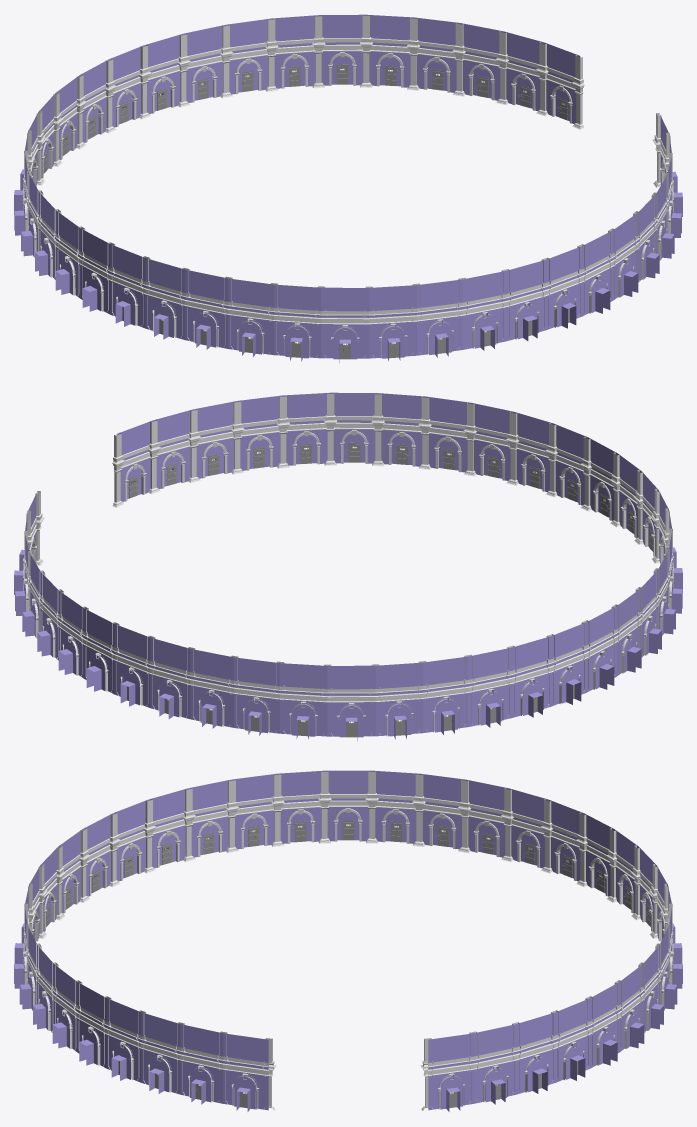
Rendered from FR L2 Prison walls 1.fbx.
3 views of the same model, one above another, from view 1: azimuth 30°, elevation 25°; view 2: azimuth 150°, elevation 25°; view 3: azimuth 270°, elevation 25° (orthographic).
Parts seen in each view (by area): view 1: Prison wall.024, Prison wall.023, Prison wall.025, Prison wall.022, Prison wall.026, Prison wall.021, Prison wall.027, Prison wall.020, Prison wall.028, Prison wall.019, Prison wall.018, Prison wall.029 (+22 smaller); view 2: Prison wall.024, Prison wall.023, Prison wall.025, Prison wall.022, Prison wall.026, Prison wall.021, Prison wall.027, Prison wall.020, Prison wall.028, Prison wall.019, Prison wall.018, Prison wall.029 (+22 smaller); view 3: Prison wall.032, Prison wall.031, Prison wall.030, Prison wall.013, Prison wall.015, Prison wall.016, Prison wall.029, Prison wall.017, Prison wall.028, Prison wall.018, Prison wall.027, Prison wall.019 (+18 smaller).
Boxes of the visible parts, x1,y1,x2,y2 form: Prison wall.024: [182, 25, 546, 341]; Prison wall.023: [143, 34, 506, 350]; Prison wall.025: [225, 18, 582, 329]; Prison wall.022: [108, 45, 462, 357]; Prison wall.026: [271, 15, 612, 316]; Prison wall.021: [79, 59, 416, 361]; Prison wall.027: [318, 14, 638, 300]; Prison wall.020: [55, 76, 369, 362]; Prison wall.028: [366, 14, 659, 282]; Prison wall.019: [38, 93, 321, 361]; Prison wall.018: [20, 112, 274, 356]; Prison wall.029: [414, 17, 674, 260]; Prison wall.024: [150, 403, 514, 719]; Prison wall.023: [190, 412, 553, 728]; Prison wall.025: [114, 396, 471, 707]; Prison wall.022: [234, 423, 588, 735]; Prison wall.026: [84, 393, 425, 694]; Prison wall.021: [280, 437, 617, 739]; Prison wall.027: [58, 392, 378, 678]; Prison wall.020: [327, 454, 641, 740]; Prison wall.028: [37, 392, 330, 660]; Prison wall.019: [375, 471, 658, 739]; Prison wall.018: [422, 490, 676, 734]; Prison wall.029: [22, 395, 282, 638]; Prison wall.032: [223, 1033, 473, 1111]; Prison wall.031: [180, 1024, 516, 1104]; Prison wall.030: [141, 1012, 555, 1094]; Prison wall.013: [277, 770, 419, 843]; Prison wall.015: [231, 773, 465, 849]; Prison wall.016: [188, 779, 508, 857]; Prison wall.029: [106, 998, 590, 1082]; Prison wall.017: [148, 788, 548, 868]; Prison wall.028: [77, 982, 619, 1068]; Prison wall.018: [112, 800, 584, 881]; Prison wall.027: [52, 964, 644, 1052]; Prison wall.019: [82, 813, 614, 896].
Bounding box in the file's own units: 6238 × 744 × 6381.
